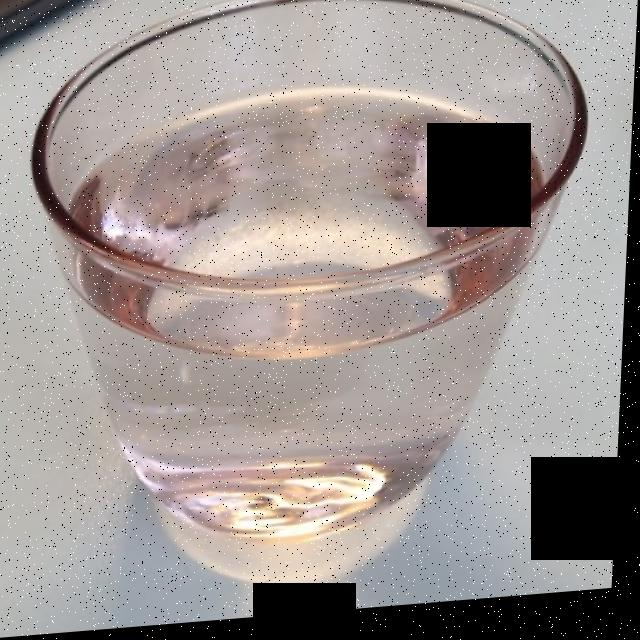water: (77, 124, 548, 564)
